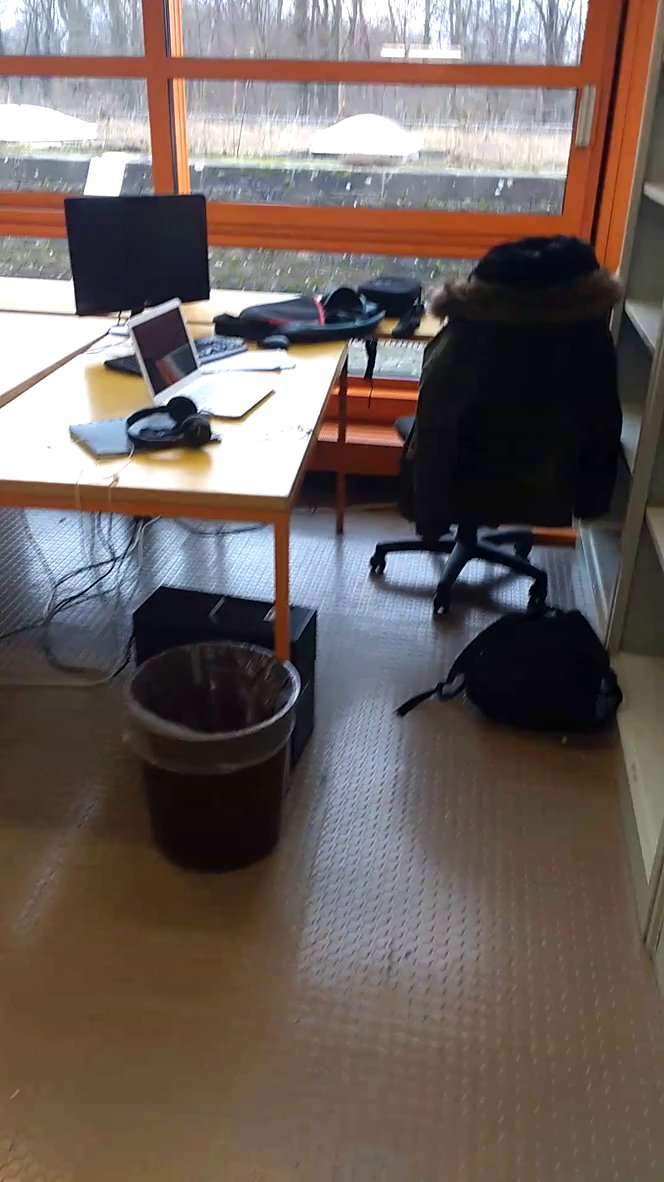bag: (387, 601, 627, 757)
bin: (120, 625, 315, 886)
laptop: (120, 294, 279, 424)
